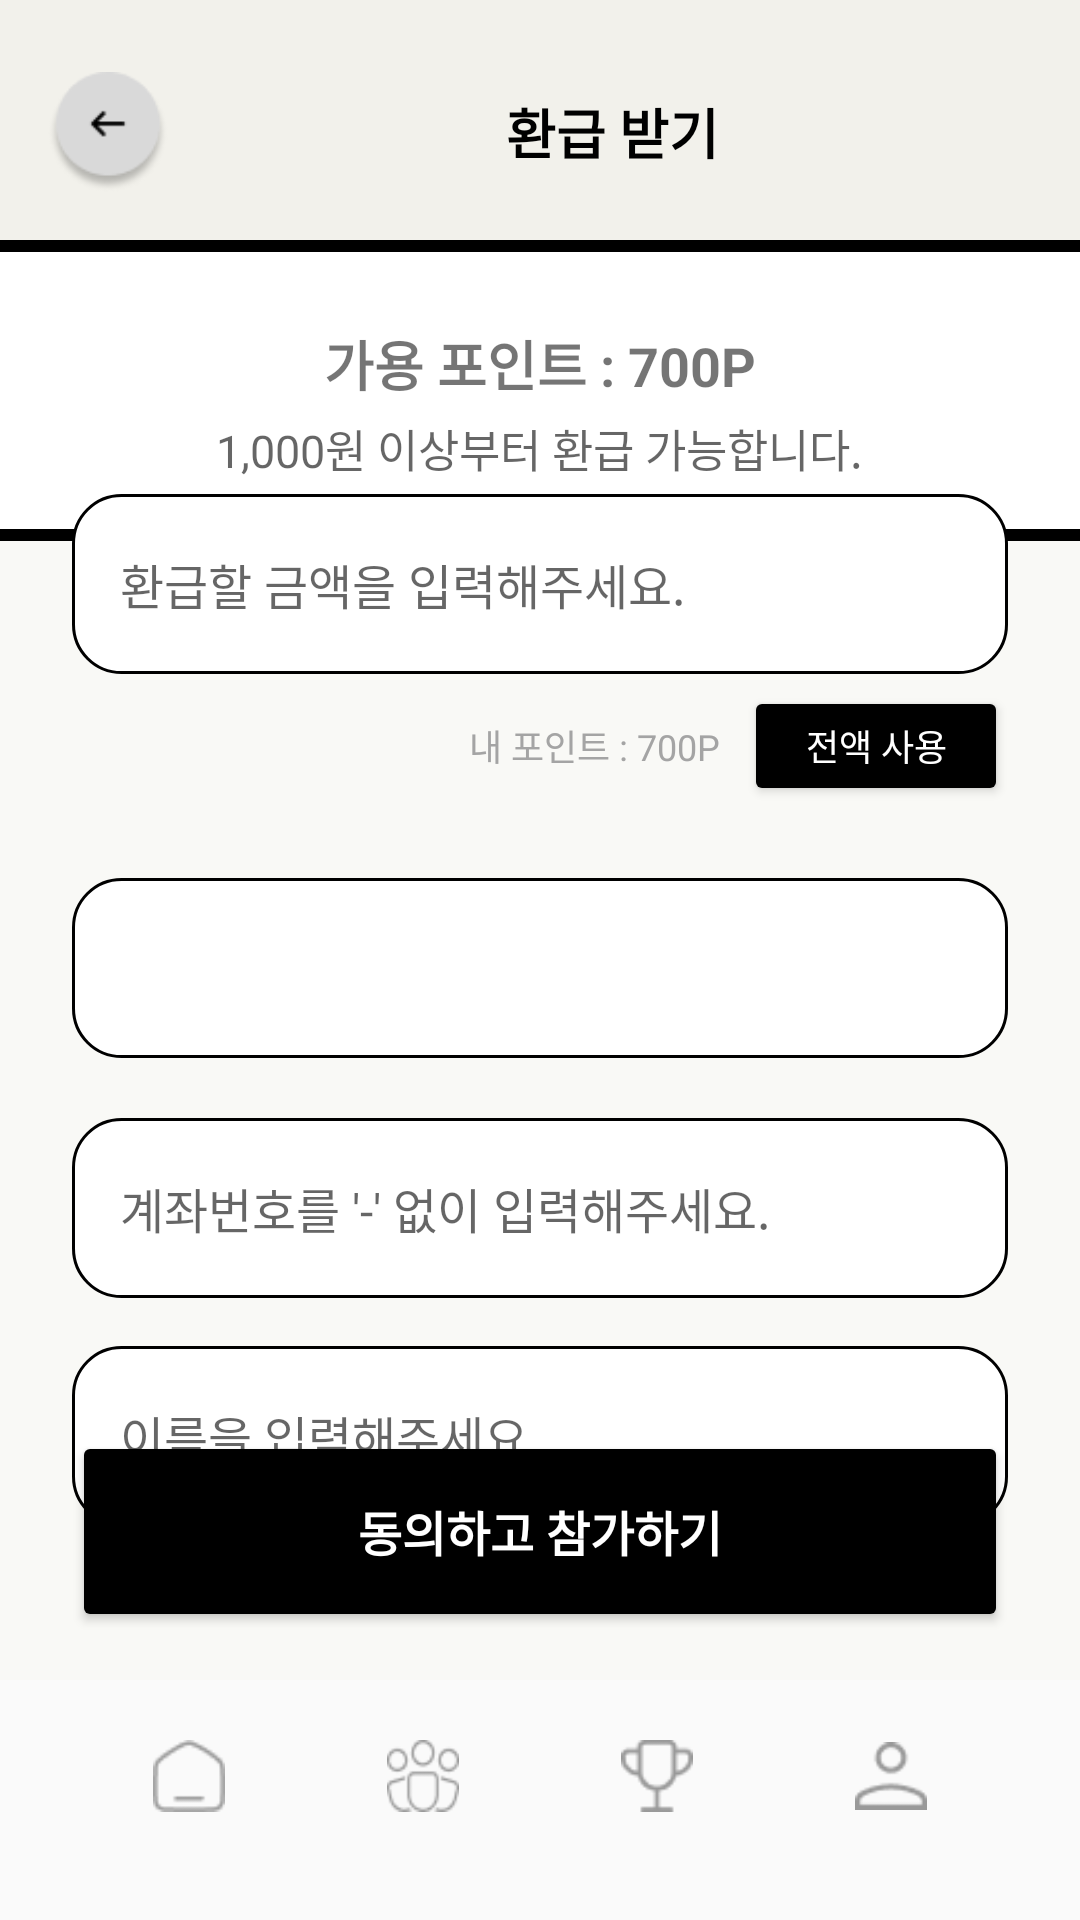

Icons on this 1080w x 1920h Android screen, each with the point to tap as (x,y):
back: (108,128)
마이 아이콘: (891,1776)
챌린지 아이콘: (657,1776)
커뮤니티 아이콘: (423,1776)
홈 아이콘: (189,1776)
